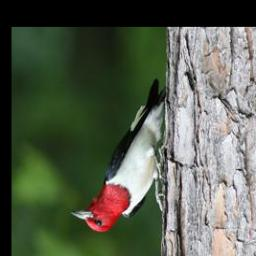Woodpecker: (67, 80, 171, 233)
